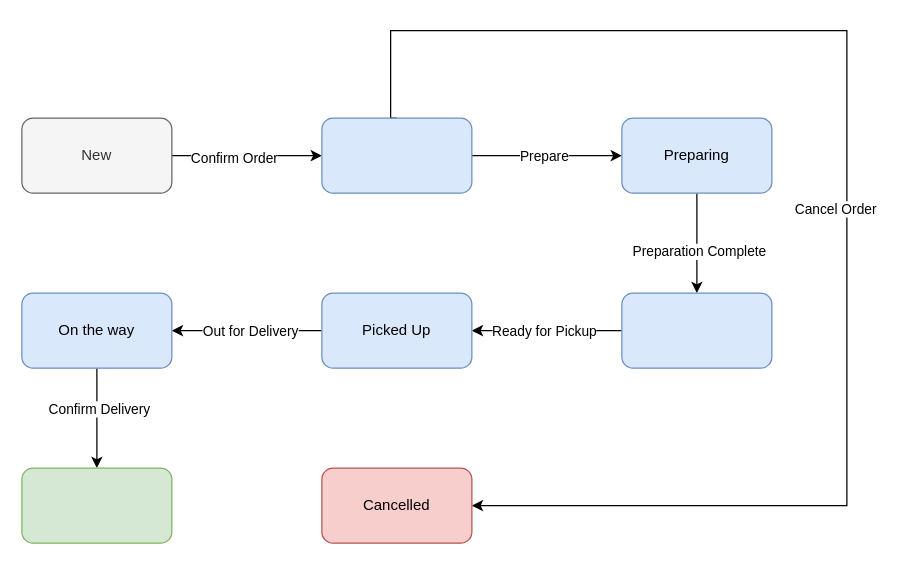
Some shapes in this 898 by 565 pixel diagram are drawn without their labels. Each missing label, with the box of its shape:
Delivered: (21, 467, 172, 543)
Placed: (321, 117, 472, 193)
Prepared: (621, 292, 772, 368)
